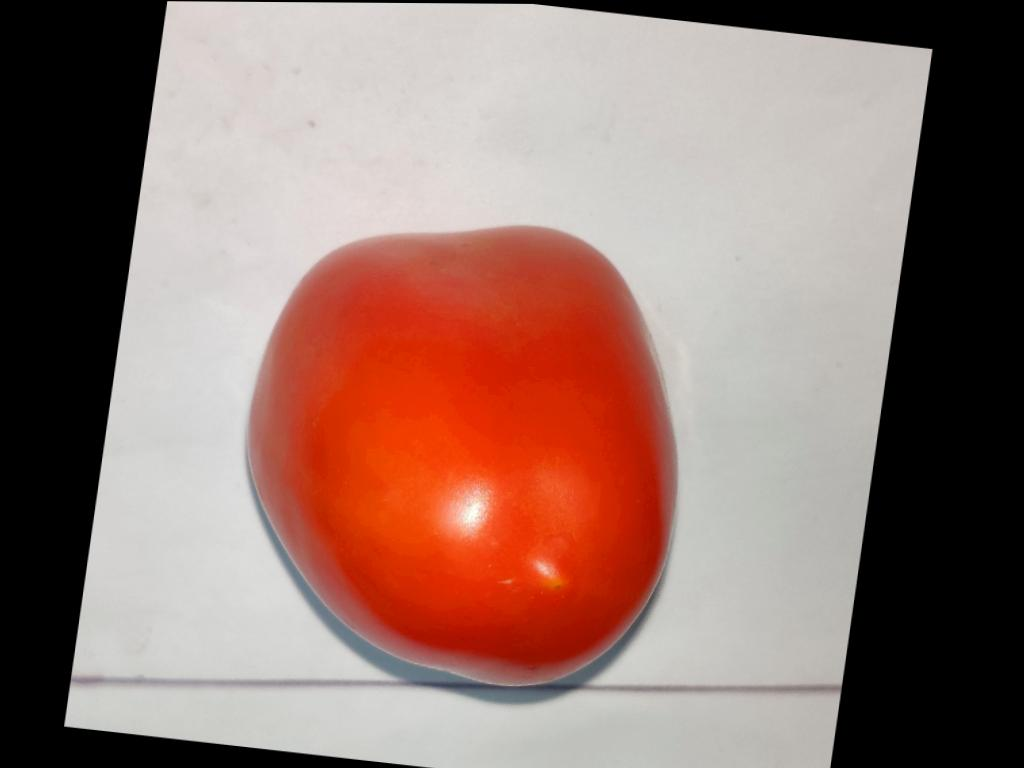tomato: (248, 227, 674, 685)
